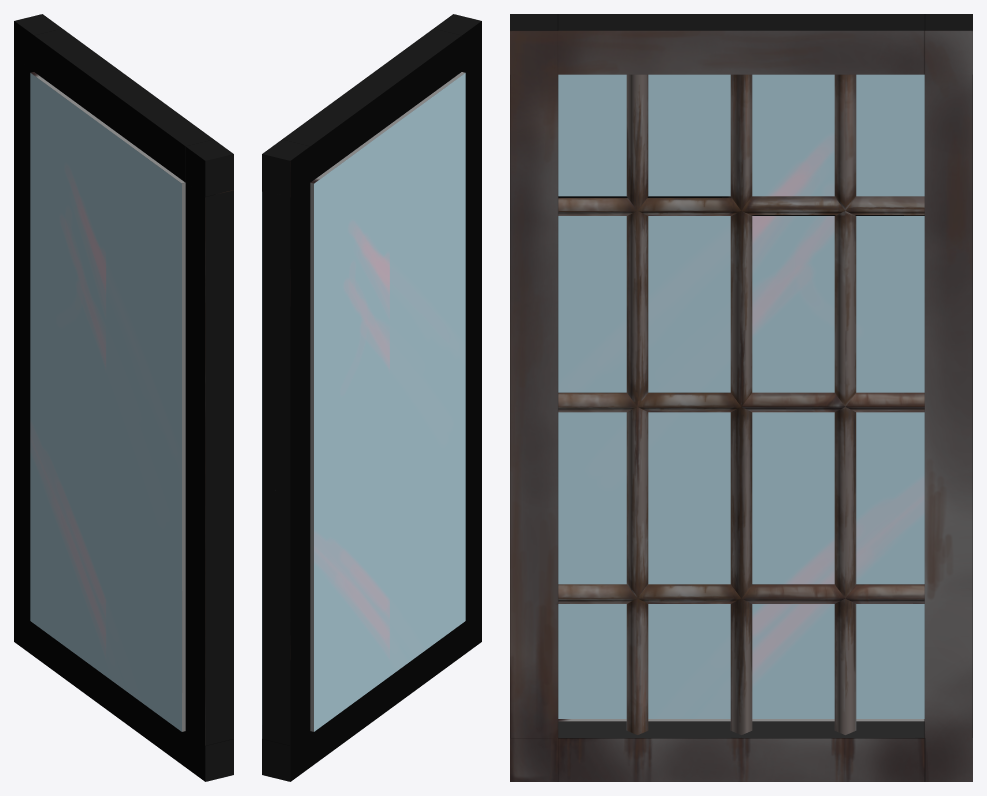
File: VENTANA_UVS_Editados.fbx
3 renders of one model, left to right at view 1: azimuth 30°, elevation 25°; view 2: azimuth 150°, elevation 25°; view 3: azimuth 270°, elevation 25°, orthographic. The views are drawn at different scales.
Visible parts, largest first — view 1: Cube.009; view 2: Cube.009; view 3: Cube.009, Cube.010.
Boxes of the visible parts, x1,y1,x2,y2 form: Cube.009: [14, 14, 233, 781]; Cube.009: [262, 14, 481, 781]; Cube.009: [510, 14, 972, 781]; Cube.010: [558, 74, 924, 734].
Size of the model in its own units: 10.25 by 190 by 106.
